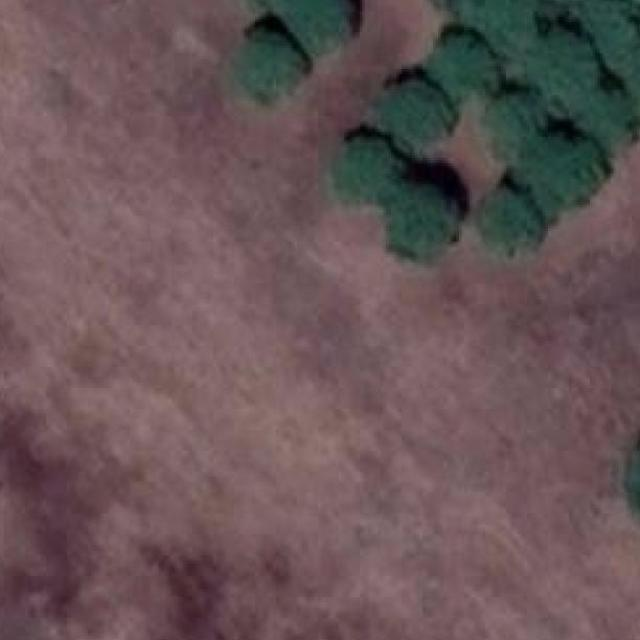Tree: (519, 134, 602, 205), (532, 33, 596, 106), (388, 186, 451, 257), (378, 85, 446, 147), (242, 31, 299, 98), (278, 0, 349, 51), (331, 142, 393, 200), (433, 41, 494, 98), (583, 0, 639, 62), (481, 0, 538, 56), (479, 192, 534, 248), (490, 95, 538, 153), (580, 90, 630, 145), (632, 443, 640, 521), (630, 55, 640, 110)
